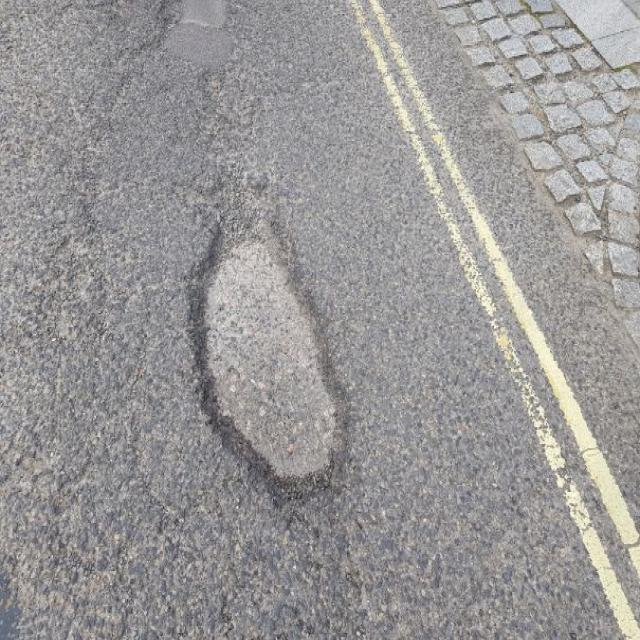pothole: (181, 160, 356, 510)
